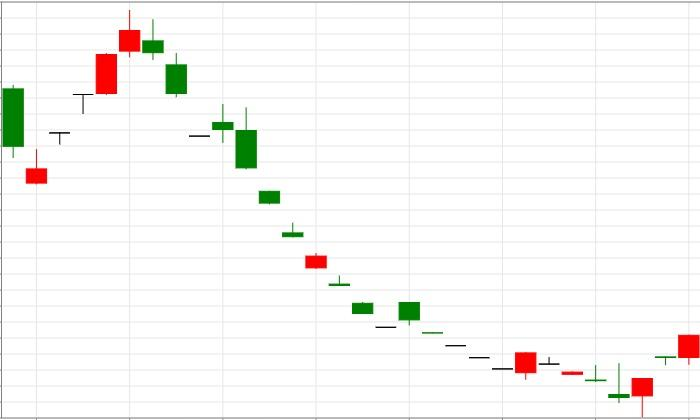shooting_star_fall: (25, 9, 139, 184)
